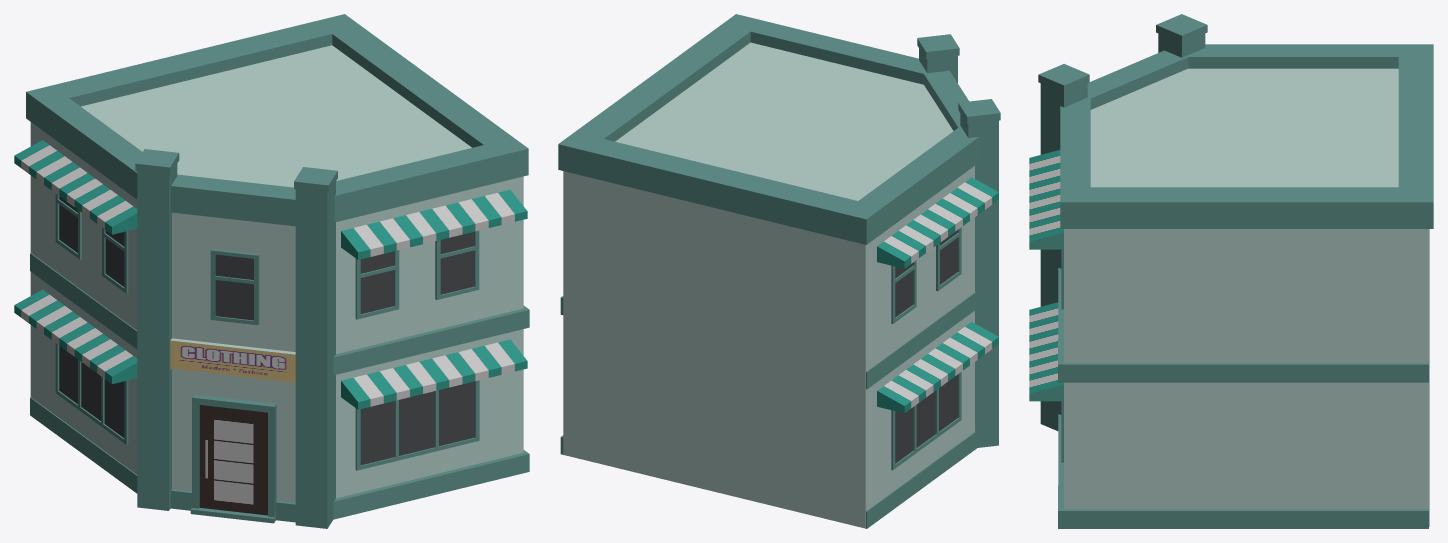
Rendered from building-clothing.glb.
The picture shows the model from 3 angles, left to right: view 1: azimuth 30°, elevation 25°; view 2: azimuth 150°, elevation 25°; view 3: azimuth 270°, elevation 25°; orthographic projection. The views are drawn at different scales.
Visible parts, largest first — view 1: Building_Clothing; view 2: Building_Clothing; view 3: Building_Clothing.
Part boxes in pixels (box(x1,y1,x2,y2)): Building_Clothing: box(14, 14, 529, 528); Building_Clothing: box(558, 14, 1000, 528); Building_Clothing: box(1029, 14, 1433, 528).
Bounding box in the file's own units: 12.13 × 11.61 × 12.16.
Materials: 1 (1 with a texture image).
